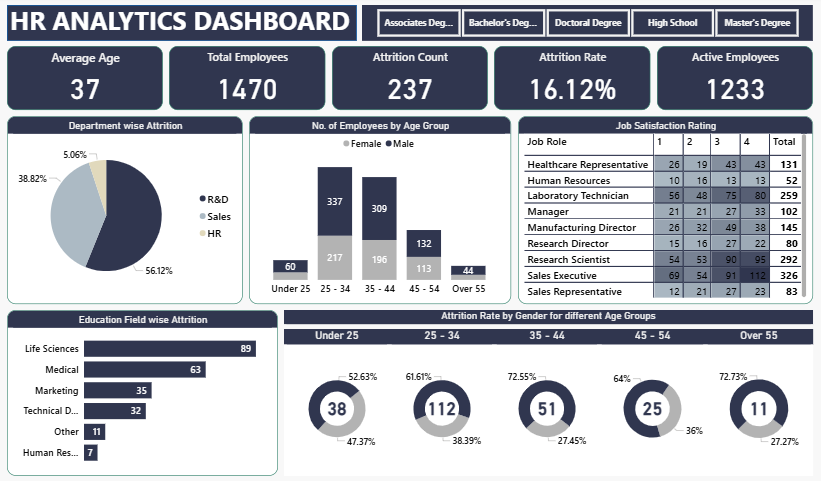

This screenshot's page, from the dashboard's own definition file:
{"tool":"powerbi","page":{"name":"Page 1","canvas":[1400,820],"ordinal":0},"visuals":[{"type":"card","title":"Total Employees","fields":{"Values":["Sum(HR data.Employee Count)"]},"box":[289.6,78.3,266,108.9],"z":0},{"type":"card","title":"Attrition Count","fields":{"Values":["Sum(HR data.Attrition Count)"]},"box":[566.2,78.3,265,108.9],"z":1000},{"type":"card","title":"Attrition Rate","fields":{"Values":["HR data.Attrition Rate"]},"box":[842.8,78.3,266,108.9],"z":2000},{"type":"card","title":"Active Employees","fields":{"Values":["HR data.Active Employees"]},"box":[1119.4,78.3,265.4,108.9],"z":3000},{"type":"card","title":"Average Age","fields":{"Values":["Avg(HR data.Age)"]},"box":[13.6,78.3,265.4,108.9],"z":4000},{"type":"pieChart","title":"Department wise Attrition","fields":{"Y":["Sum(HR data.Attrition Count)"],"Category":["HR data.Department"]},"box":[13.6,197.3,401.5,319.8],"z":5000},{"type":"columnChart","title":"No. of Employees by Age Group","fields":{"Category":["HR data.CF_age band"],"Y":["Sum(HR data.Employee Count)"],"Series":["HR data.Gender"]},"box":[426.2,197.3,445.7,319.8],"z":6000},{"type":"pivotTable","title":"Job Satisfaction Rating","fields":{"Columns":["HR data.Job Satisfaction"],"Rows":["HR data.Job Role"],"Values":["Sum(HR data.Employee Count)"]},"box":[882.9,197.3,501.9,319.8],"z":7000},{"type":"barChart","title":"Education Field wise Attrition","fields":{"Category":["HR data.Education Field"],"Y":["Sum(HR data.Attrition Count)"]},"box":[13.6,527.4,461,282.4],"z":8000},{"type":"donutChart","title":"Under 25","fields":{"Y":["Sum(HR data.Attrition Count)"],"Category":["HR data.Gender"],"Series":["HR data.CF_age band"]},"box":[484.9,559.7,180.3,250.1],"z":9000},{"type":"donutChart","title":"25 - 34","fields":{"Y":["Sum(HR data.Attrition Count)"],"Category":["HR data.Gender"],"Series":["HR data.CF_age band"]},"box":[663.5,559.7,180.3,250.1],"z":10000},{"type":"donutChart","title":"35 - 44","fields":{"Y":["Sum(HR data.Attrition Count)"],"Category":["HR data.Gender"],"Series":["HR data.CF_age band"]},"box":[842.1,559.7,180.3,250.1],"z":11000},{"type":"donutChart","title":"45 - 54","fields":{"Y":["Sum(HR data.Attrition Count)"],"Category":["HR data.Gender"],"Series":["HR data.CF_age band"]},"box":[1020.7,559.7,182,250.1],"z":12000},{"type":"donutChart","title":"Over 55","fields":{"Y":["Sum(HR data.Attrition Count)"],"Category":["HR data.Gender"],"Series":["HR data.CF_age band"]},"box":[1201.1,559.7,183.7,250.1],"z":13000},{"type":"textbox","title":"Attrition Rate by Gender for different Age Groups","box":[484.9,527.4,900,24],"z":14000},{"type":"textbox","title":"38","box":[549.5,678.8,51,37.4],"z":15000},{"type":"textbox","title":"112","box":[716.2,678.8,73.2,32.3],"z":16000},{"type":"textbox","title":"51","box":[906.8,678.8,51,37.4],"z":17000},{"type":"textbox","title":"25","box":[1085.4,678.8,52.7,37.4],"z":18000},{"type":"textbox","title":"11","box":[1267.4,678.8,51,37.4],"z":19000},{"type":"shape","box":[13.6,8.5,595,61.2],"z":20000},{"type":"textbox","box":[13.6,0,597.1,69.8],"z":21000},{"type":"slicer","fields":{"Values":["HR data.Education"]},"box":[617.6,8.5,767.3,61.2],"z":22000}]}

Visuals, with their boxes in screenshot pixels (x1, y1, x2, y2), scaled from the page's 1400x820 canvas onto the 821x481 screenshot:
"Total Employees" card: locate(170, 46, 326, 110)
"Attrition Count" card: locate(332, 46, 487, 110)
"Attrition Rate" card: locate(494, 46, 650, 110)
"Active Employees" card: locate(656, 46, 812, 110)
"Average Age" card: locate(8, 46, 164, 110)
"Department wise Attrition" pieChart: locate(8, 116, 243, 303)
"No. of Employees by Age Group" columnChart: locate(250, 116, 511, 303)
"Job Satisfaction Rating" pivotTable: locate(518, 116, 812, 303)
"Education Field wise Attrition" barChart: locate(8, 309, 278, 475)
"Under 25" donutChart: locate(284, 328, 390, 475)
"25 - 34" donutChart: locate(389, 328, 495, 475)
"35 - 44" donutChart: locate(494, 328, 600, 475)
"45 - 54" donutChart: locate(599, 328, 705, 475)
"Over 55" donutChart: locate(704, 328, 812, 475)
"Attrition Rate by Gender for different Age Groups" textbox: locate(284, 309, 812, 323)
"38" textbox: locate(322, 398, 352, 420)
"112" textbox: locate(420, 398, 463, 417)
"51" textbox: locate(532, 398, 562, 420)
"25" textbox: locate(637, 398, 667, 420)
"11" textbox: locate(743, 398, 773, 420)
shape: locate(8, 5, 357, 41)
textbox: locate(8, 0, 358, 41)
slicer - HR data.Education: locate(362, 5, 812, 41)
